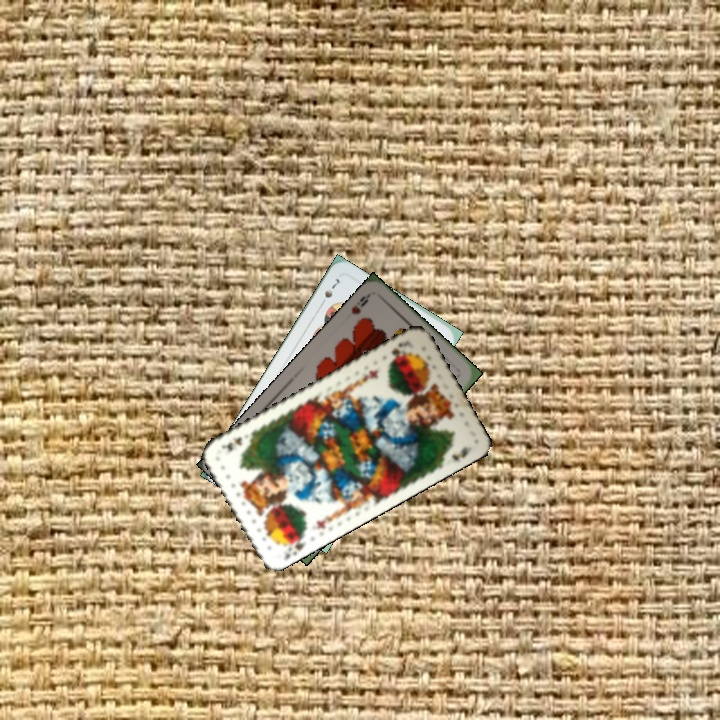H9: (347, 290, 372, 317)
S7: (316, 273, 343, 309)
SK: (280, 530, 308, 562), (385, 336, 409, 365)
